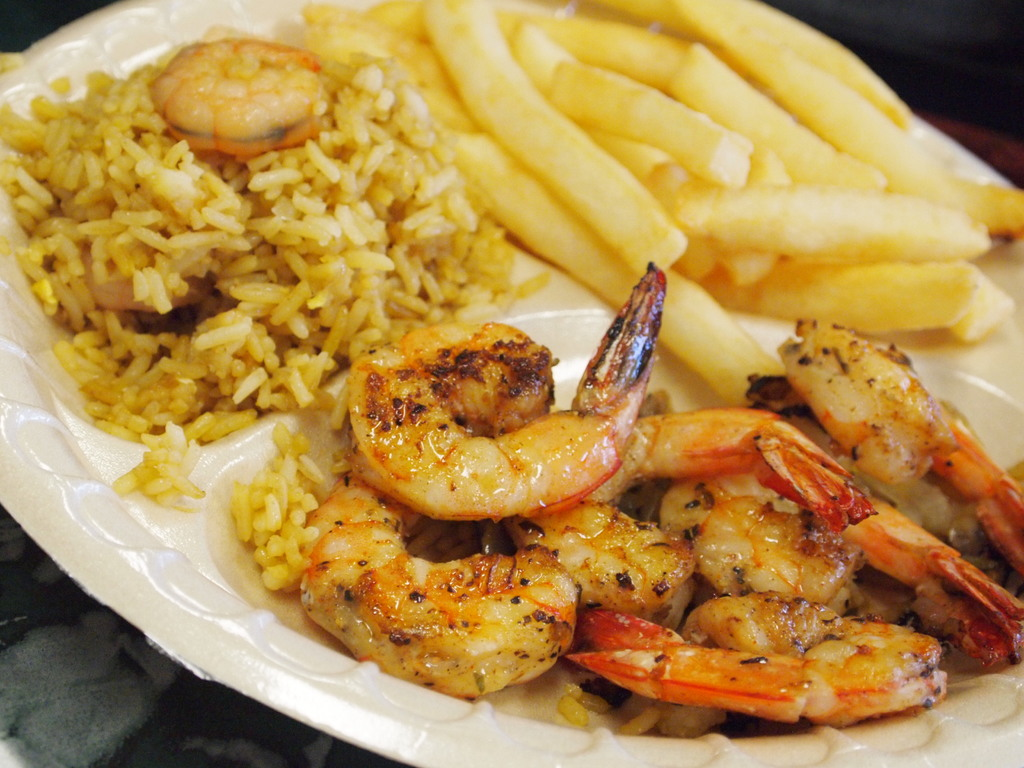French fries: (349, 3, 1024, 363)
